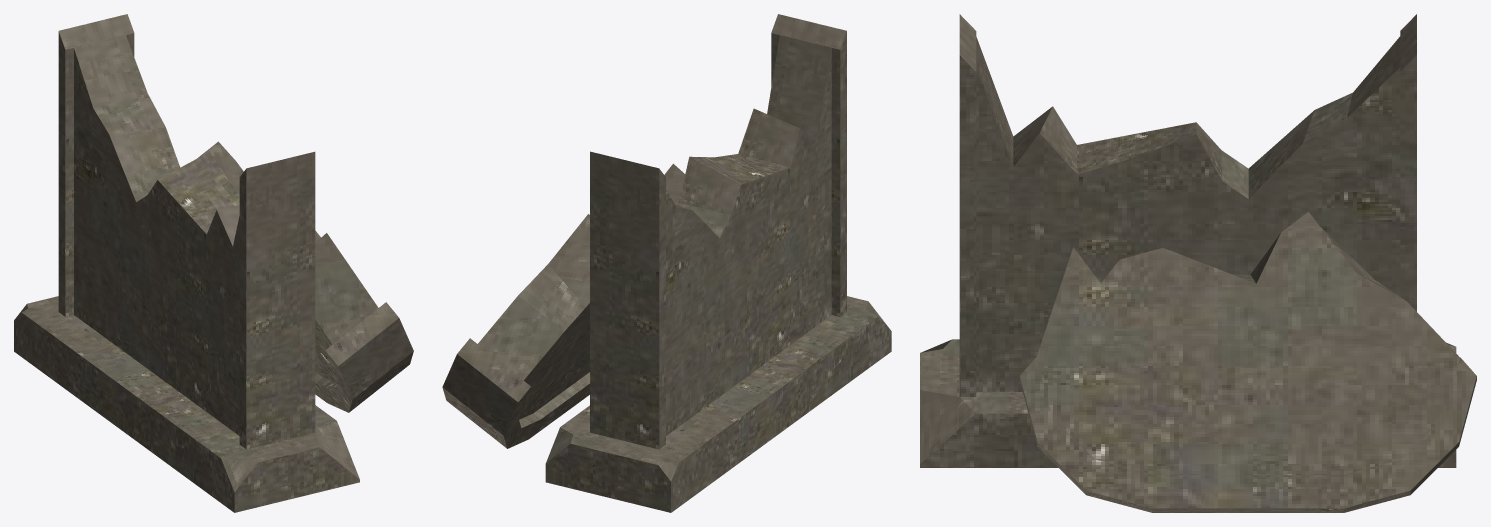
Rendered from Tumba1_rota.glb.
3 renders of one model, left to right at view 1: azimuth 30°, elevation 25°; view 2: azimuth 150°, elevation 25°; view 3: azimuth 270°, elevation 25°, orthographic. The views are drawn at different scales.
Visible parts, largest first — view 1: Lapida_1_rota; view 2: Lapida_1_rota; view 3: Lapida_1_rota.
Part boxes in pixels (x1=…): Lapida_1_rota: x1=14, y1=14, x2=413, y2=512; Lapida_1_rota: x1=442, y1=14, x2=891, y2=512; Lapida_1_rota: x1=920, y1=14, x2=1476, y2=512.
Bounding box in the file's own units: 1.17 × 1.49 × 1.86.
Materials: 1 (1 with a texture image).
